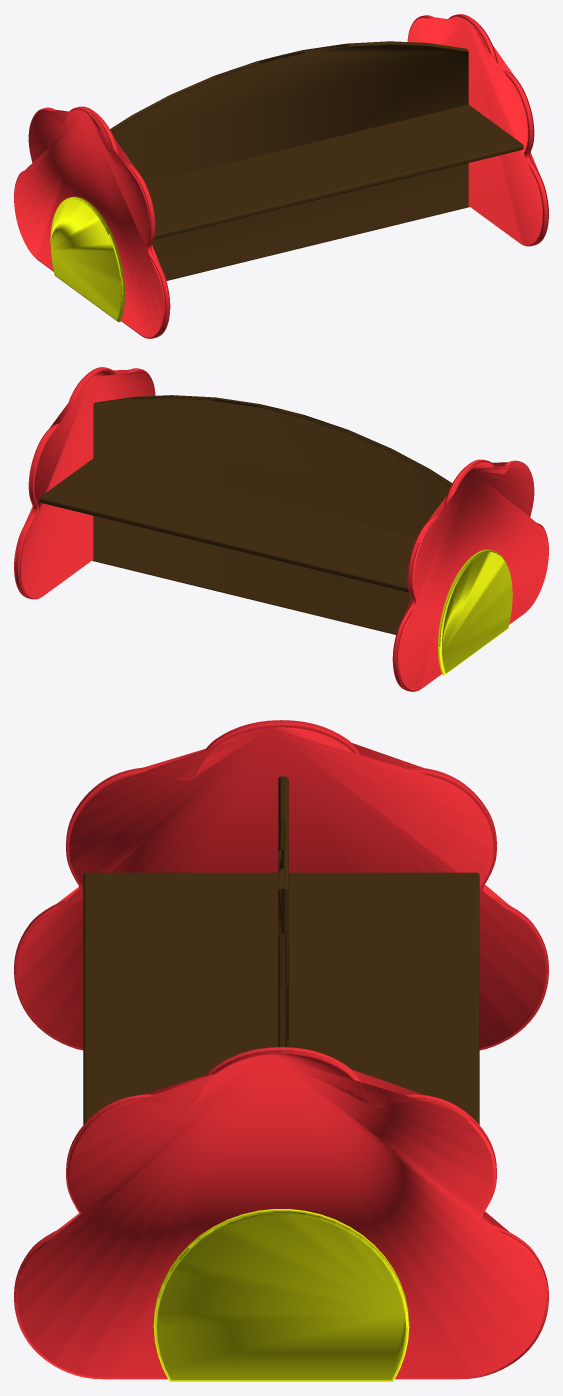
The picture shows the model from 3 angles, top to bottom: view 1: azimuth 30°, elevation 25°; view 2: azimuth 150°, elevation 25°; view 3: azimuth 270°, elevation 25°; orthographic projection. The views are drawn at different scales.
Visible parts, largest first — view 1: D_58; view 2: D_58; view 3: D_58.
Boxes of the visible parts, x1,y1,x2,y2 form: D_58: (14,14,548,338); D_58: (14,367,548,691); D_58: (14,720,548,1381).
Size of the model in its own units: 125 by 60 by 83.72.
